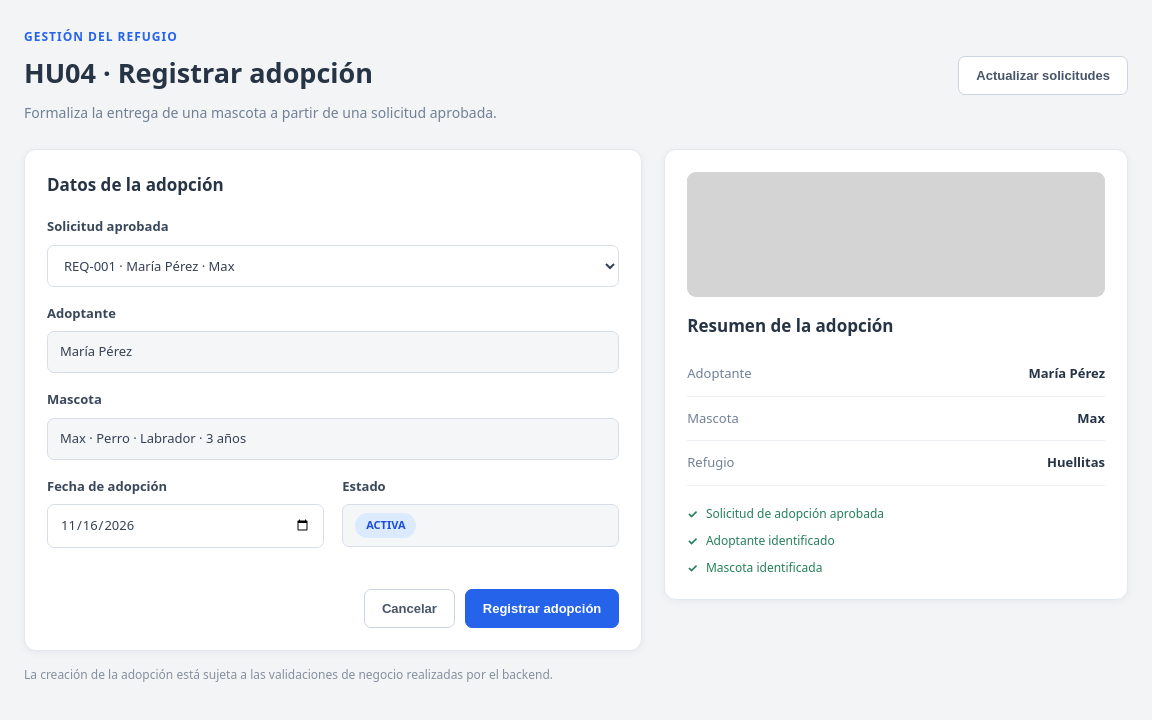
Test case: HU04 - registrar adopción › muestra un error si se intenta enviar sin seleccionar una solicitud
Expected: the heading "HU04 · Registrar adopción" is shown, [24, 54, 373, 91]
Select "Selecciona una solicitud" in the dropdown labelled "Solicitud aprobada" at (333, 266), box [47, 244, 619, 286]
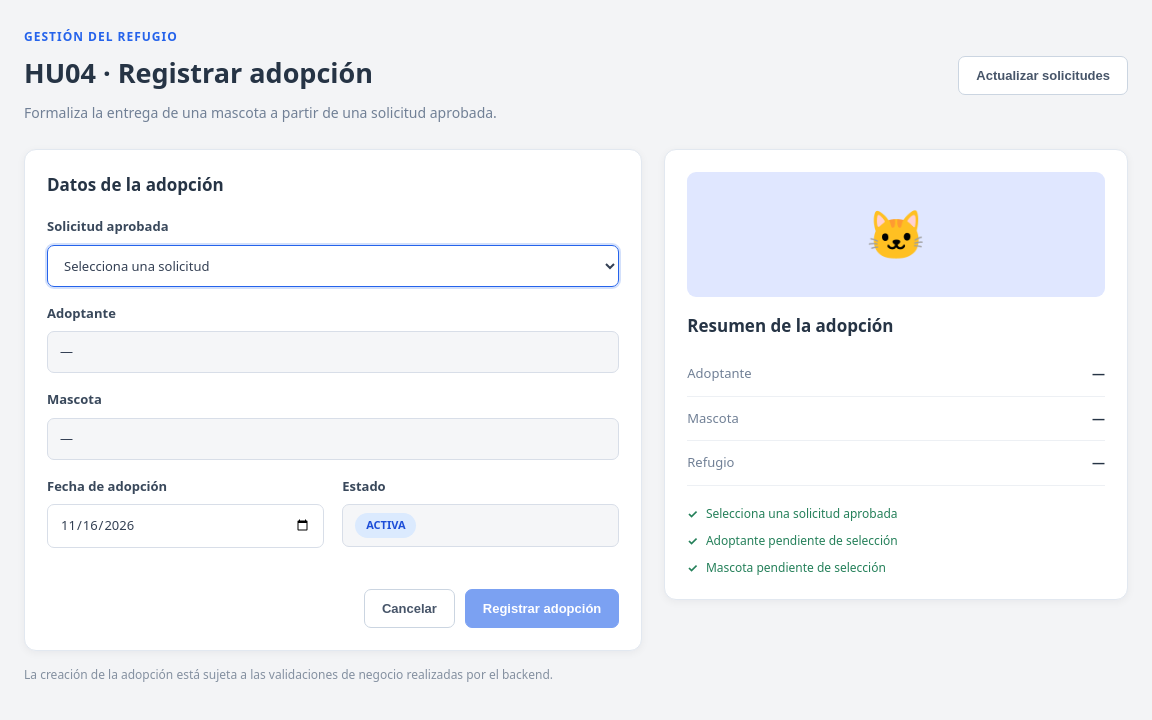
Submit the form named "Registrar adopción"
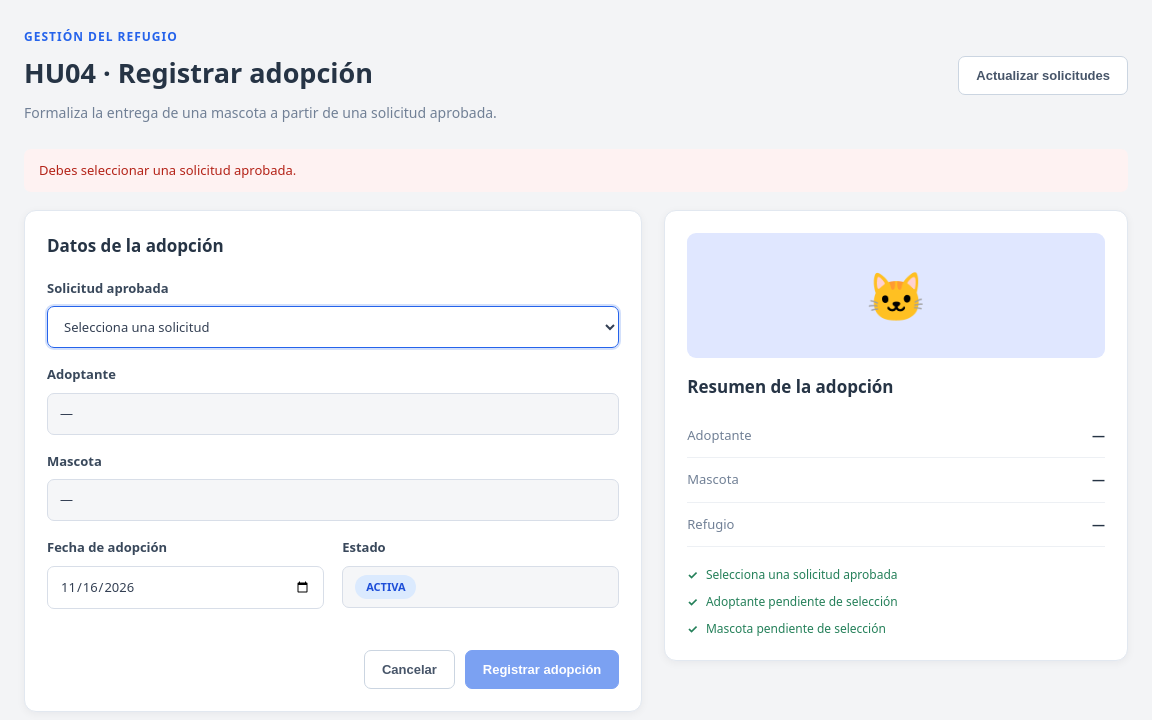
Now the message reads "Debes seleccionar una solicitud aprobada.", box [39, 160, 296, 178]
